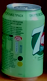sevenup: (3, 3, 45, 80)
